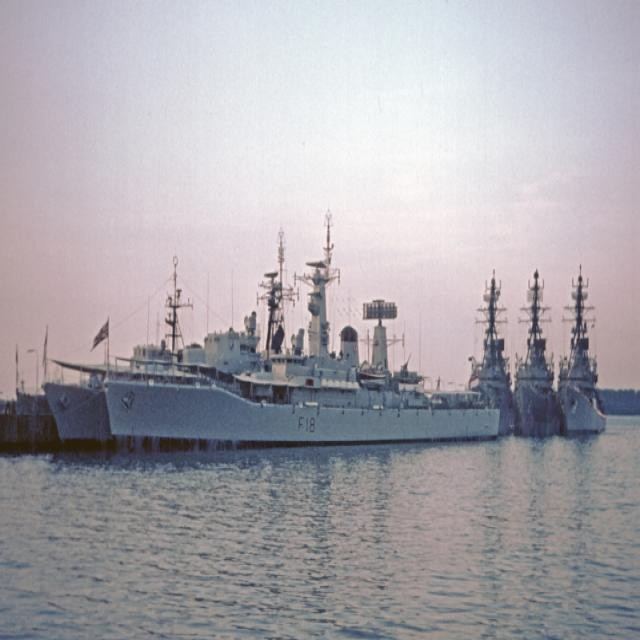Fragata: (95, 212, 504, 467)
